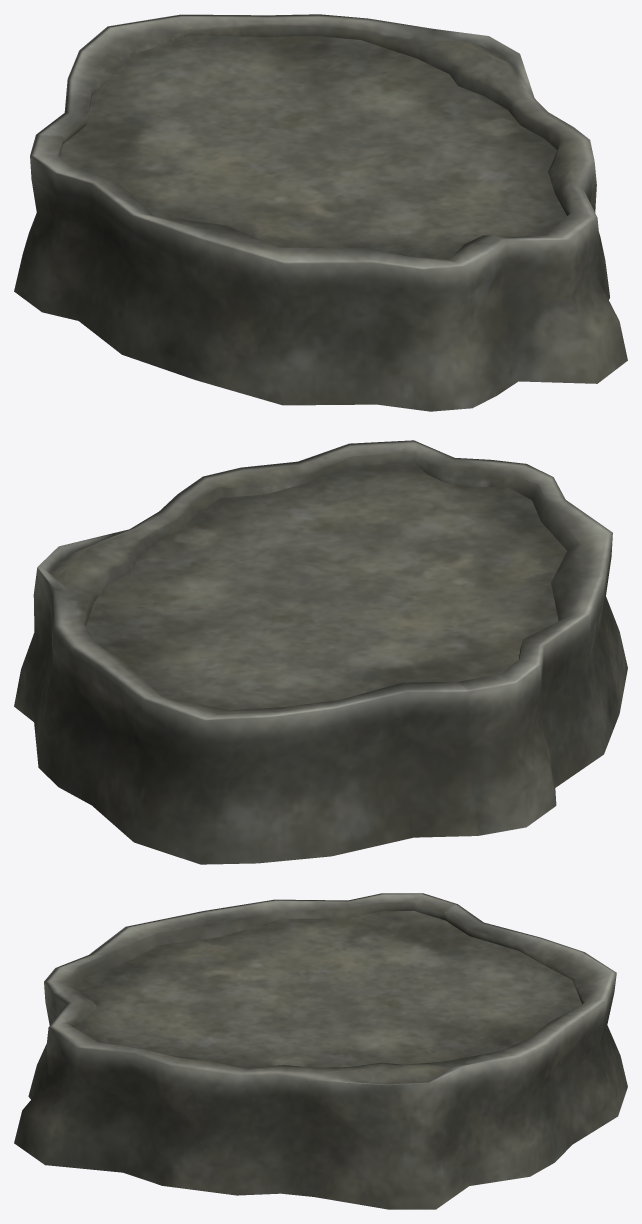
Rendered from MD_mizuba_under02_01.fbx.
The picture shows the model from 3 angles, top to bottom: view 1: azimuth 30°, elevation 25°; view 2: azimuth 150°, elevation 25°; view 3: azimuth 270°, elevation 25°; orthographic projection. The views are drawn at different scales.
Parts seen in each view (by area): view 1: mizuba_under02; view 2: mizuba_under02; view 3: mizuba_under02.
Boxes of the visible parts, box(x1,y1,x2,y2) form: mizuba_under02: box(14, 14, 627, 411); mizuba_under02: box(14, 440, 627, 864); mizuba_under02: box(14, 893, 627, 1209).
Size of the model in its own units: 3365 by 925 by 4220.
